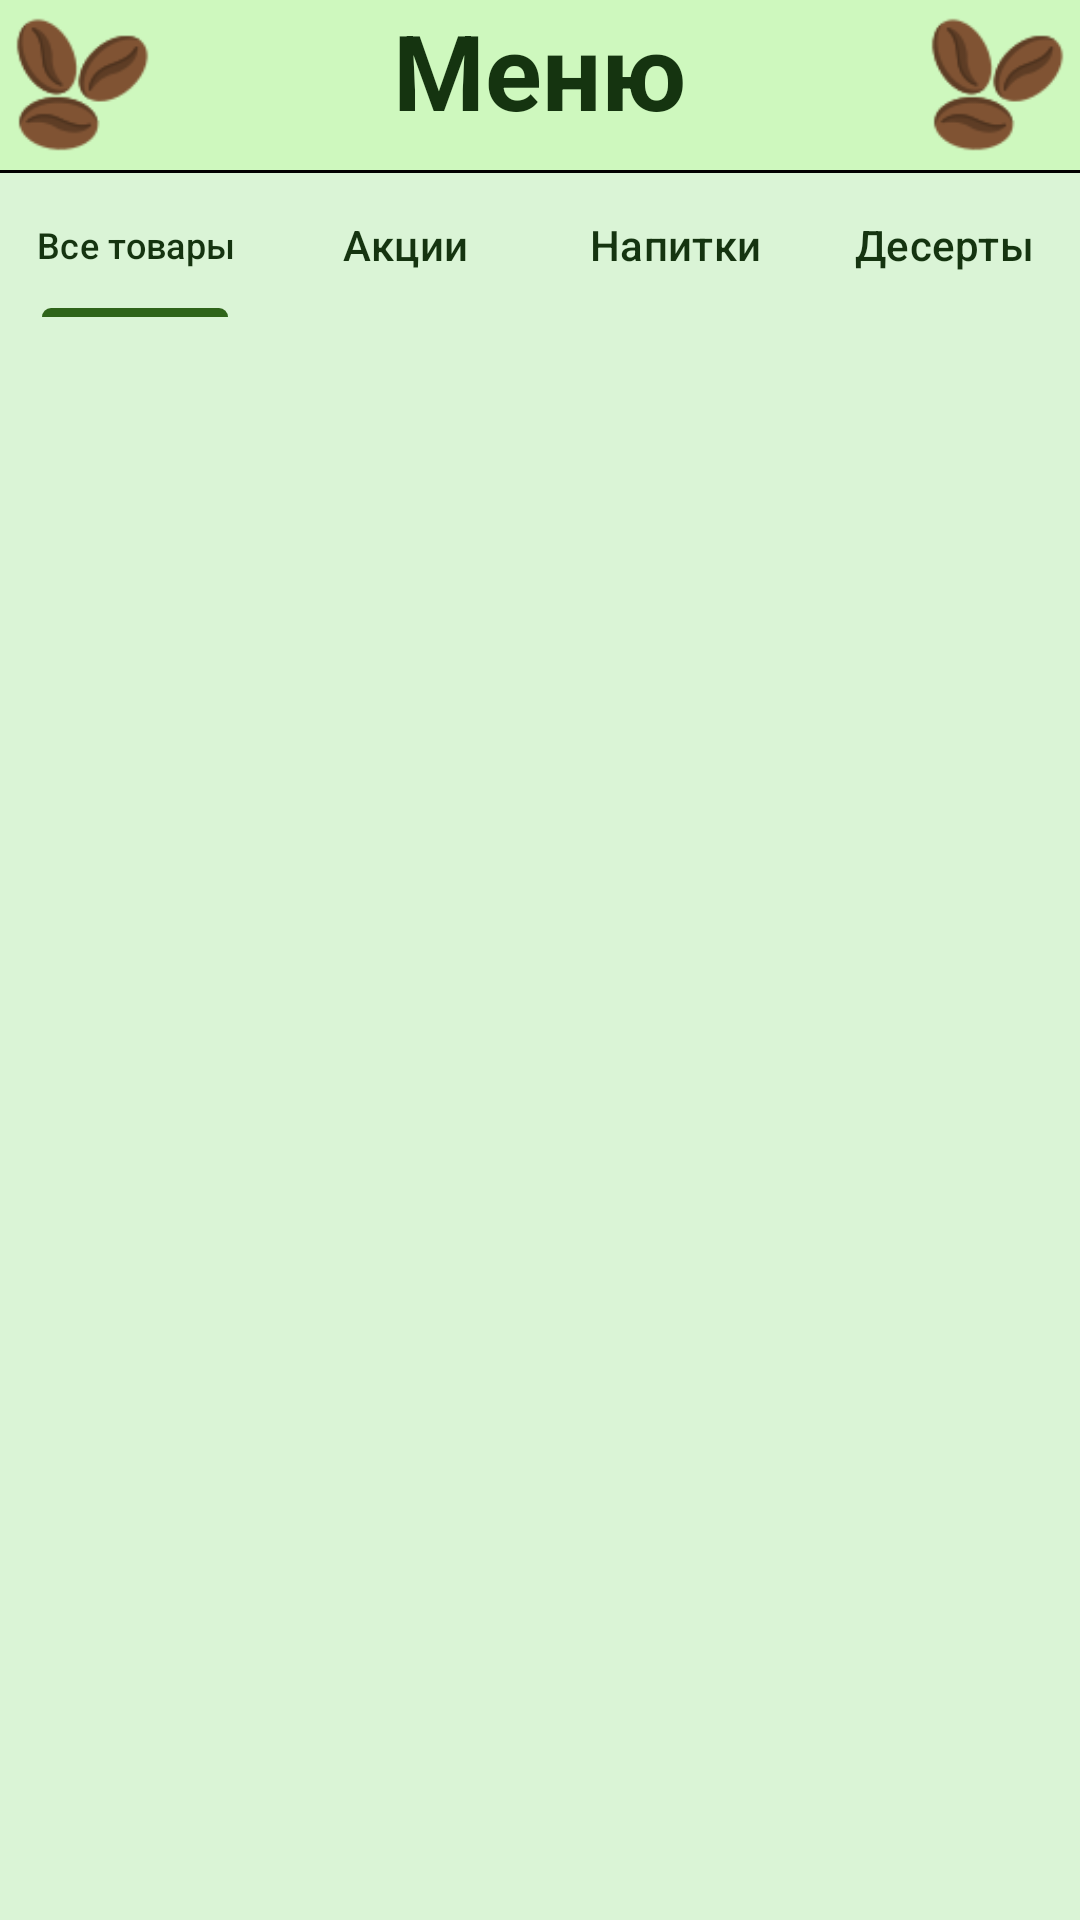

Icon bounding boxes for this 1080w x 1920h phone screenshot, format (x1, y1, x2, y2):
coffee beans: (16, 19, 148, 151), (931, 19, 1063, 151)
